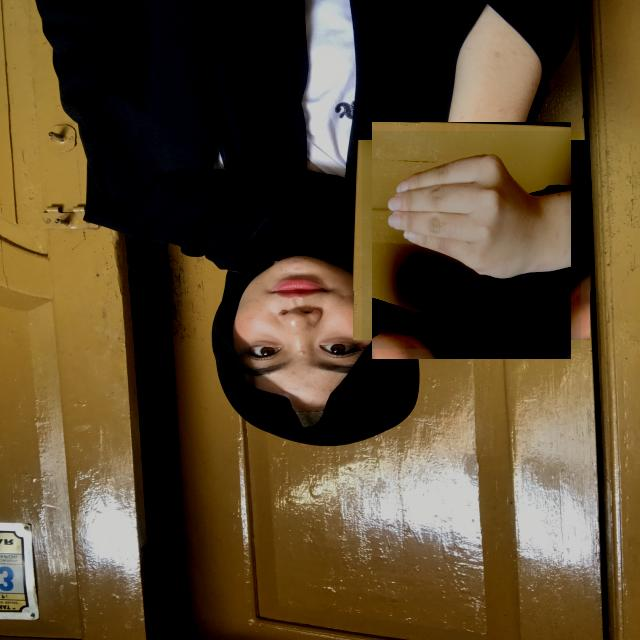kapan: (362, 131, 581, 349)
